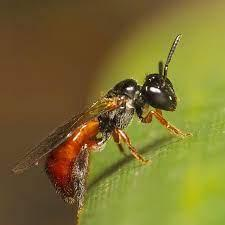Allodapula: (7, 30, 189, 211)
